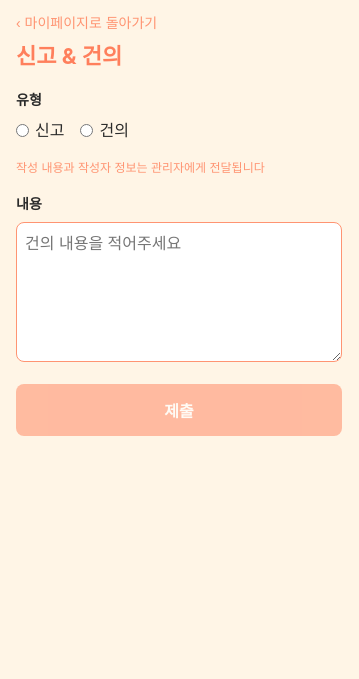
Report › 신고 선택 시 대상 입력칸 + 안내문 노출
Click the radio button labelled "신고".
click(22, 130)  # box [16,124,29,136]
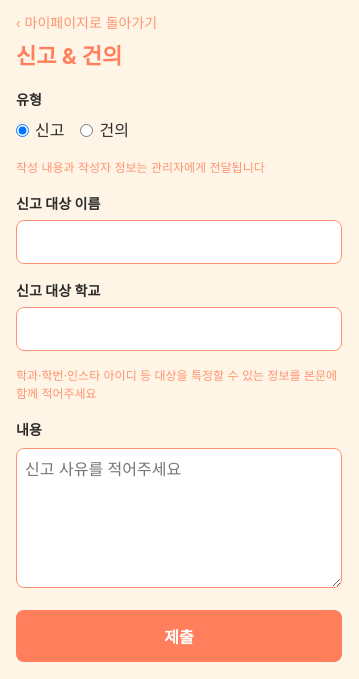
expect the field labelled "신고 대상 이름" is shown: met, box [16,220,342,264]
expect the field labelled "신고 대상 학교" is shown: met, box [16,306,342,350]
expect the text "학과·학번·인스타 아이디 등 대상을 특정할 수 있는 정보를 본문에 함께 적어주세요" is shown: met, box [16,366,342,402]
